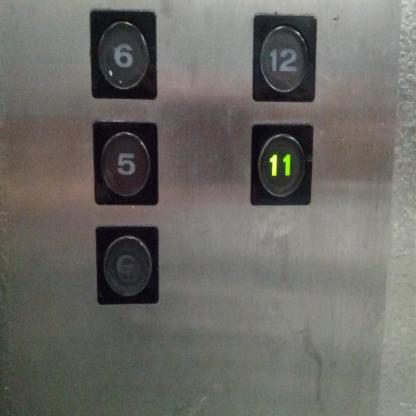11: (248, 119, 314, 208)
12: (251, 11, 318, 105)
5: (90, 118, 160, 212)
6: (88, 8, 160, 102)
G: (91, 221, 161, 307)
